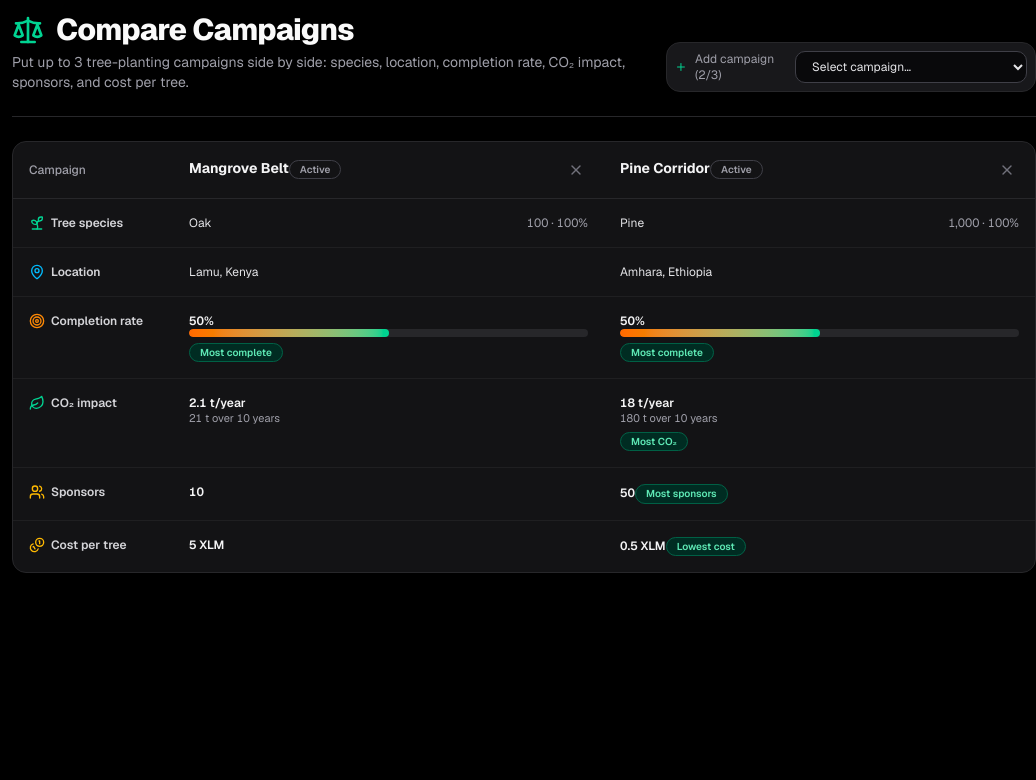
Test: CampaignSideBySideComparison › adds campaigns up to three and then hides the picker
The width and height of the screenshot is (1036, 780).
Check: the link "Pine Corridor" is shown, box [620,159,710,177]
Step 1. Select "Sahel Shelterbelt — Tahoua, Niger" in the dropdown named "Add campaign to comparison" → [911, 67], box [795,51,1027,83]
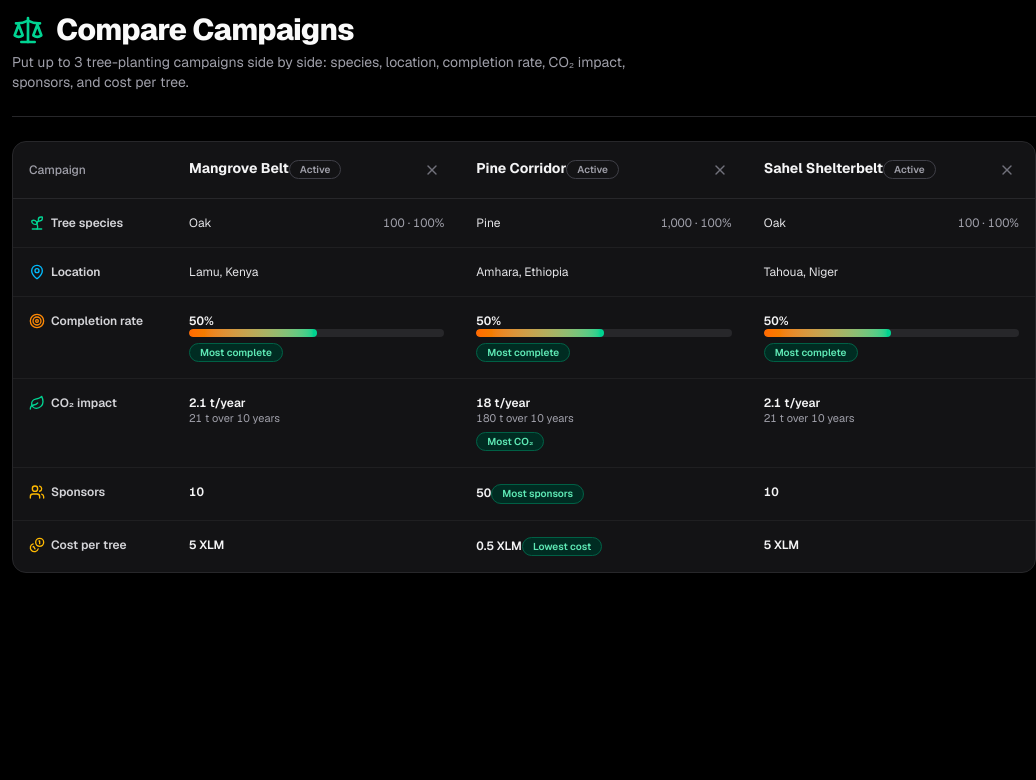
Check: the link "Sahel Shelterbelt" is shown, box [764,159,883,177]
